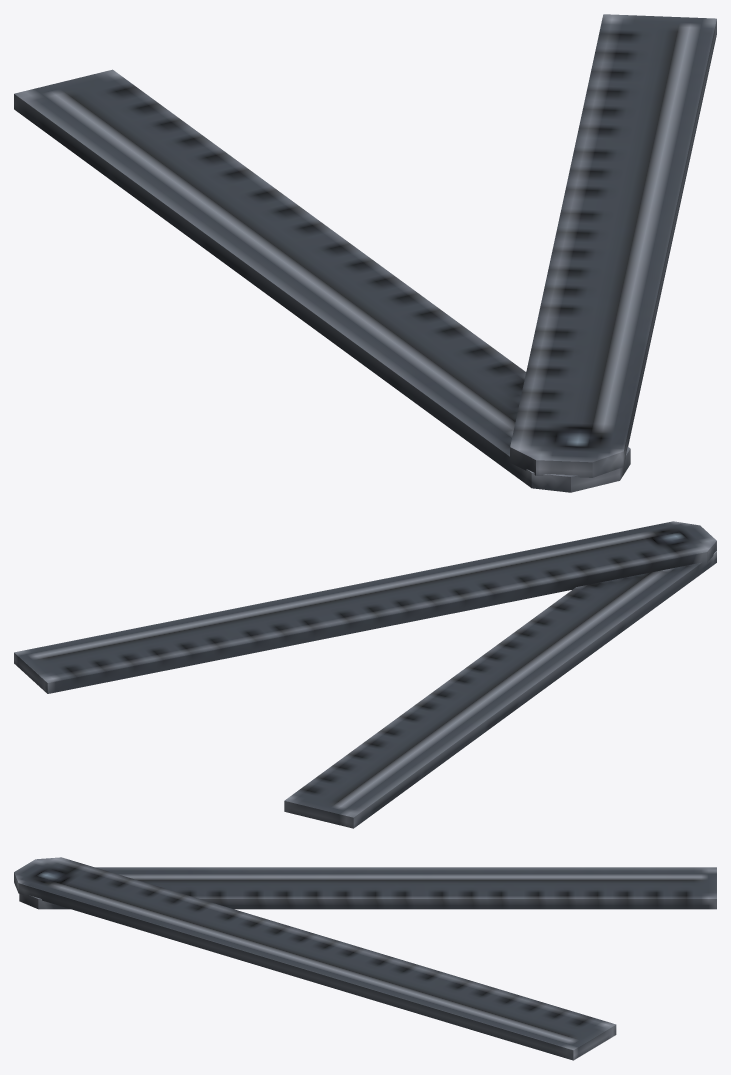
The model's file is ruler.FBX.
3 views of the same model, one above another, from view 1: azimuth 30°, elevation 25°; view 2: azimuth 150°, elevation 25°; view 3: azimuth 270°, elevation 25° (orthographic). The views are drawn at different scales.
Visible parts, largest first — view 1: rulers; view 2: rulers; view 3: rulers.
Boxes of the visible parts, x1,y1,x2,y2 form: rulers: (14, 14, 716, 492); rulers: (14, 521, 716, 828); rulers: (14, 857, 716, 1060).
Bounding box in the file's own units: 240 × 374 × 11.24.
